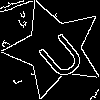U: (29, 24, 89, 83)
